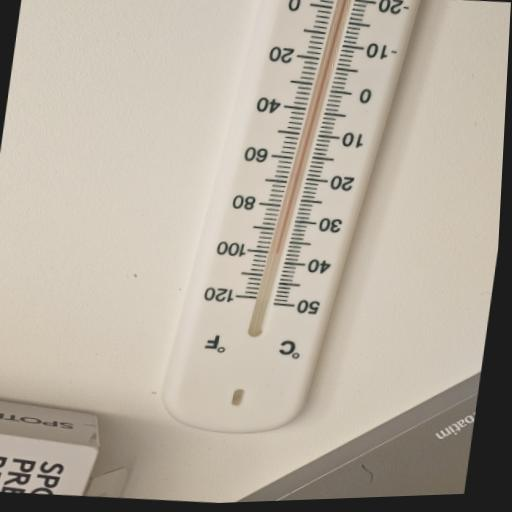thermometer: (152, 0, 425, 449)
